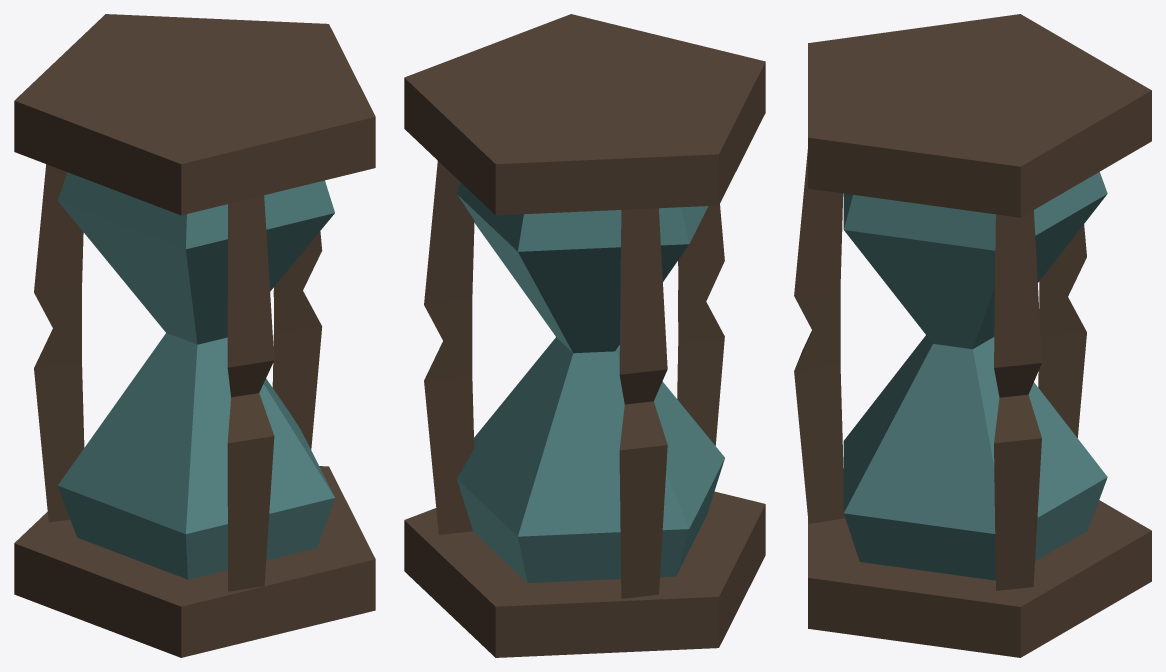
The model's file is Hourglass.fbx.
3 renders of one model, left to right at view 1: azimuth 30°, elevation 25°; view 2: azimuth 150°, elevation 25°; view 3: azimuth 270°, elevation 25°, orthographic.
Visible parts, largest first — view 1: Hourglass; view 2: Hourglass; view 3: Hourglass.
Part boxes in pixels (x1,y1,x2,y2): Hourglass: (14,14,375,657); Hourglass: (404,14,765,657); Hourglass: (794,14,1151,657).
Size of the model in its own units: 43.62 by 65.38 by 43.17.
